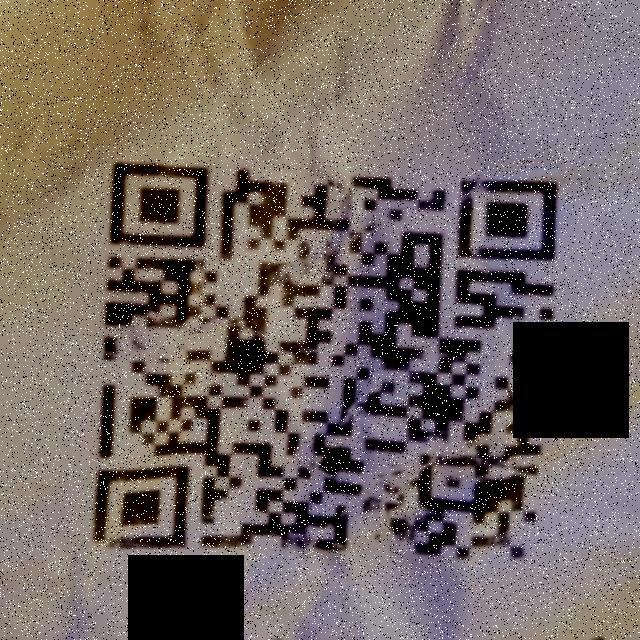QR_CODE: (81, 142, 566, 578)
